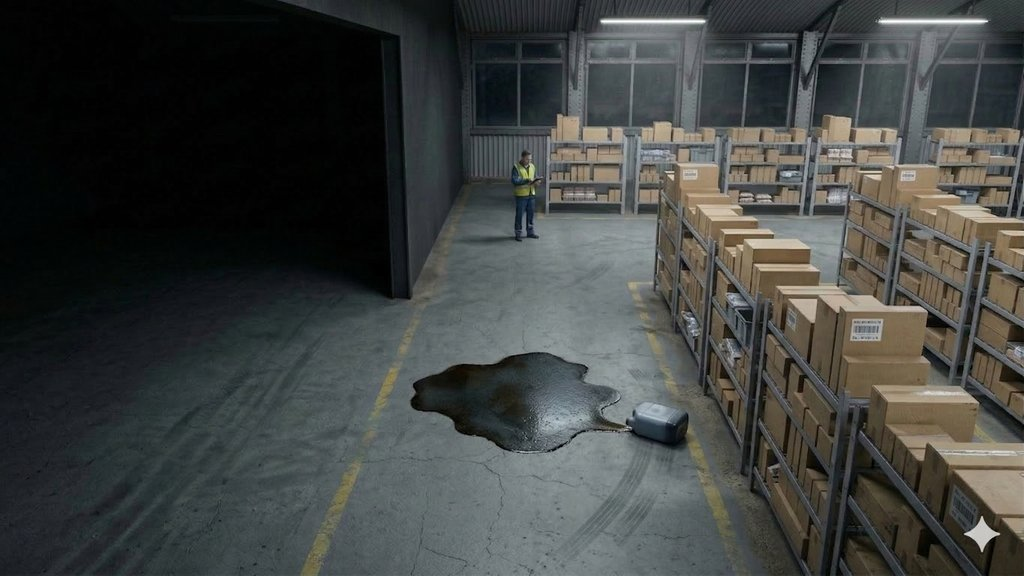person: (508, 134, 547, 247)
safety_vest: (514, 161, 536, 199)
spill: (390, 328, 690, 466)
